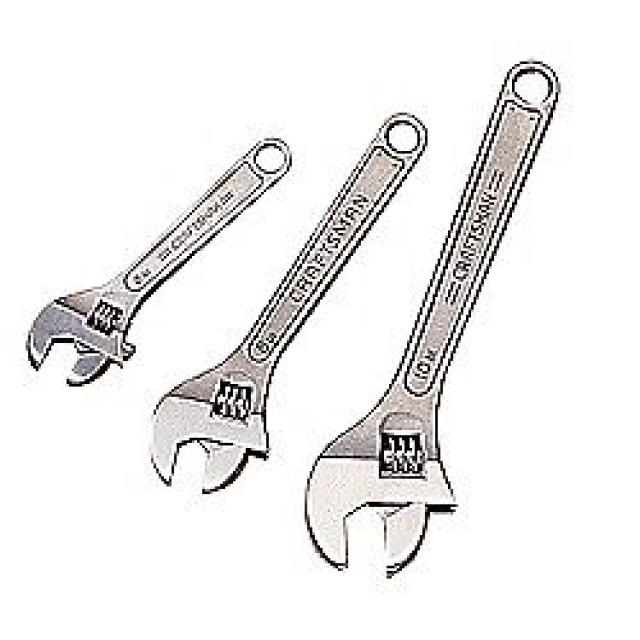wrench: (288, 71, 572, 600), (162, 300, 349, 527), (0, 220, 182, 387)
